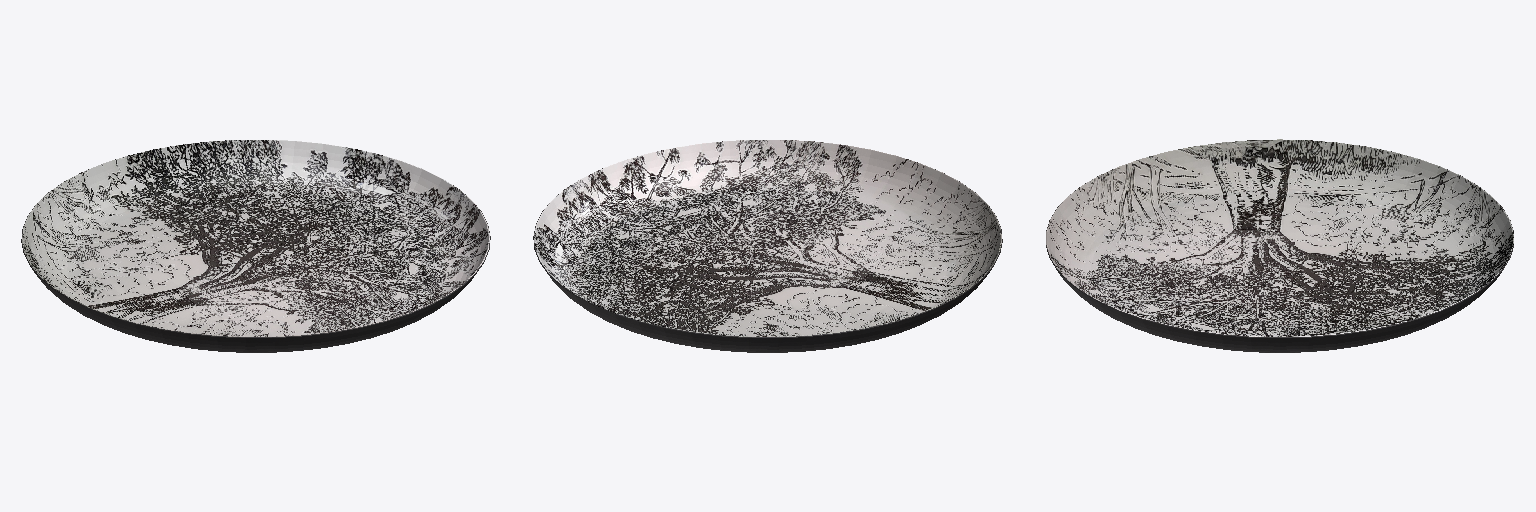
3 renders of one model, left to right at view 1: azimuth 30°, elevation 25°; view 2: azimuth 150°, elevation 25°; view 3: azimuth 270°, elevation 25°, orthographic.
Parts seen in each view (by area): view 1: Dish_Model_0004 Dish; view 2: Dish_Model_0004 Dish; view 3: Dish_Model_0004 Dish.
Boxes of the visible parts, <box> form: Dish_Model_0004 Dish: <box>21,140,490,352</box>; Dish_Model_0004 Dish: <box>533,140,1002,352</box>; Dish_Model_0004 Dish: <box>1046,139,1513,352</box>.
Size of the model in its own units: 86.58 by 7.23 by 86.41.
1 materials, 1 textured.